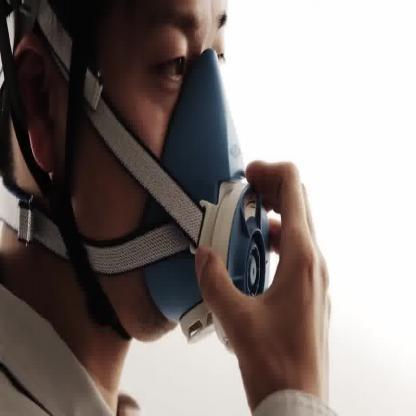mask: (138, 41, 274, 354)
